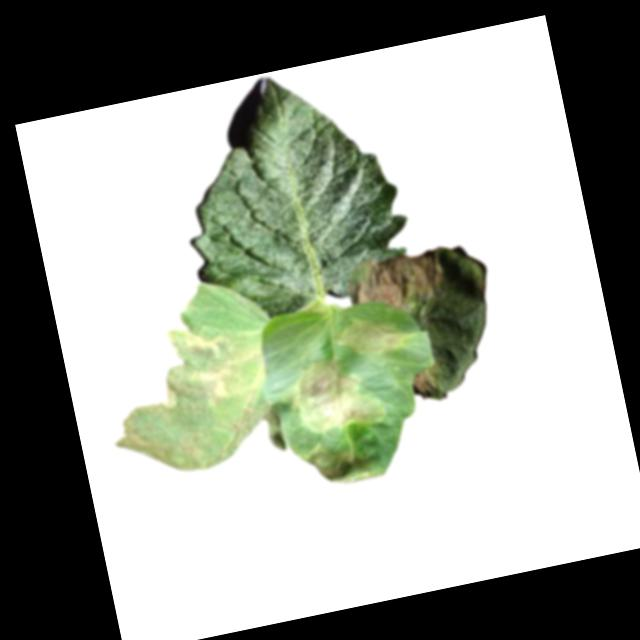Late_blight: (92, 312, 289, 488), (285, 348, 387, 441), (342, 248, 448, 320), (330, 310, 410, 364), (304, 438, 383, 492), (410, 367, 437, 401)
healthy: (160, 53, 422, 330)
